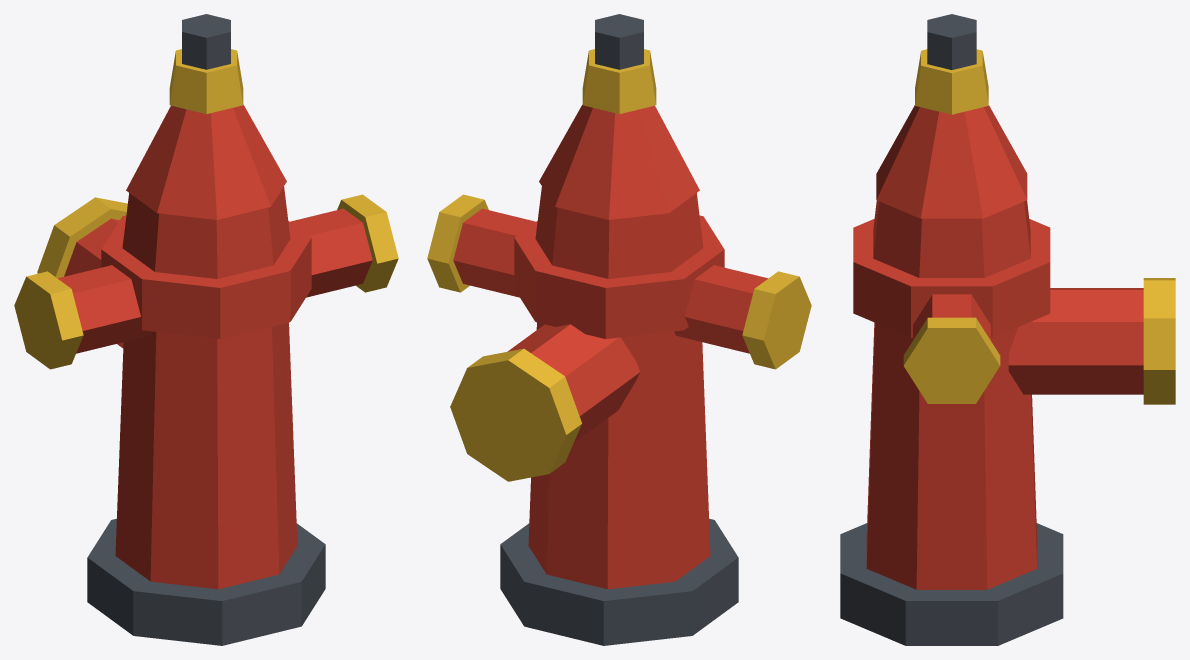
Rendered from fire_hydrant.glb.
3 views of the same model, side by side, from view 1: azimuth 30°, elevation 25°; view 2: azimuth 150°, elevation 25°; view 3: azimuth 270°, elevation 25° (orthographic).
Visible parts, largest first — view 1: Body; view 2: Body; view 3: Body.
Part boxes in pixels (bbox=[...]): Body: bbox=[14, 14, 398, 645]; Body: bbox=[427, 14, 811, 645]; Body: bbox=[840, 14, 1175, 645].
Size of the model in its own units: 0.55 by 0.89 by 0.4721.
